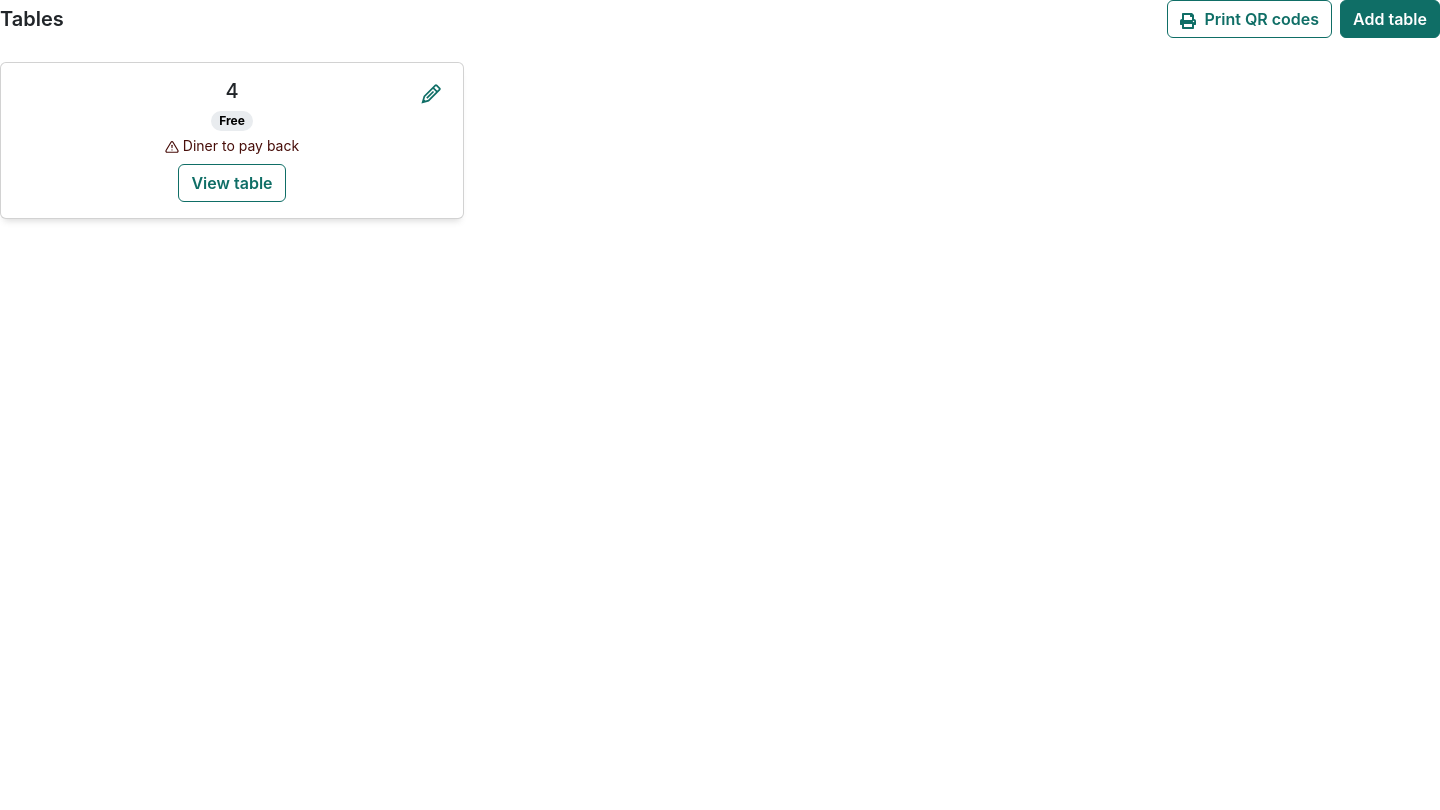
Test case: what's owed, on the table sheet › says what to do about a refund Stripe refused, with its button
Click the button with aria-label "View table 4" at coordinates (232, 183), box [178,164,286,202]
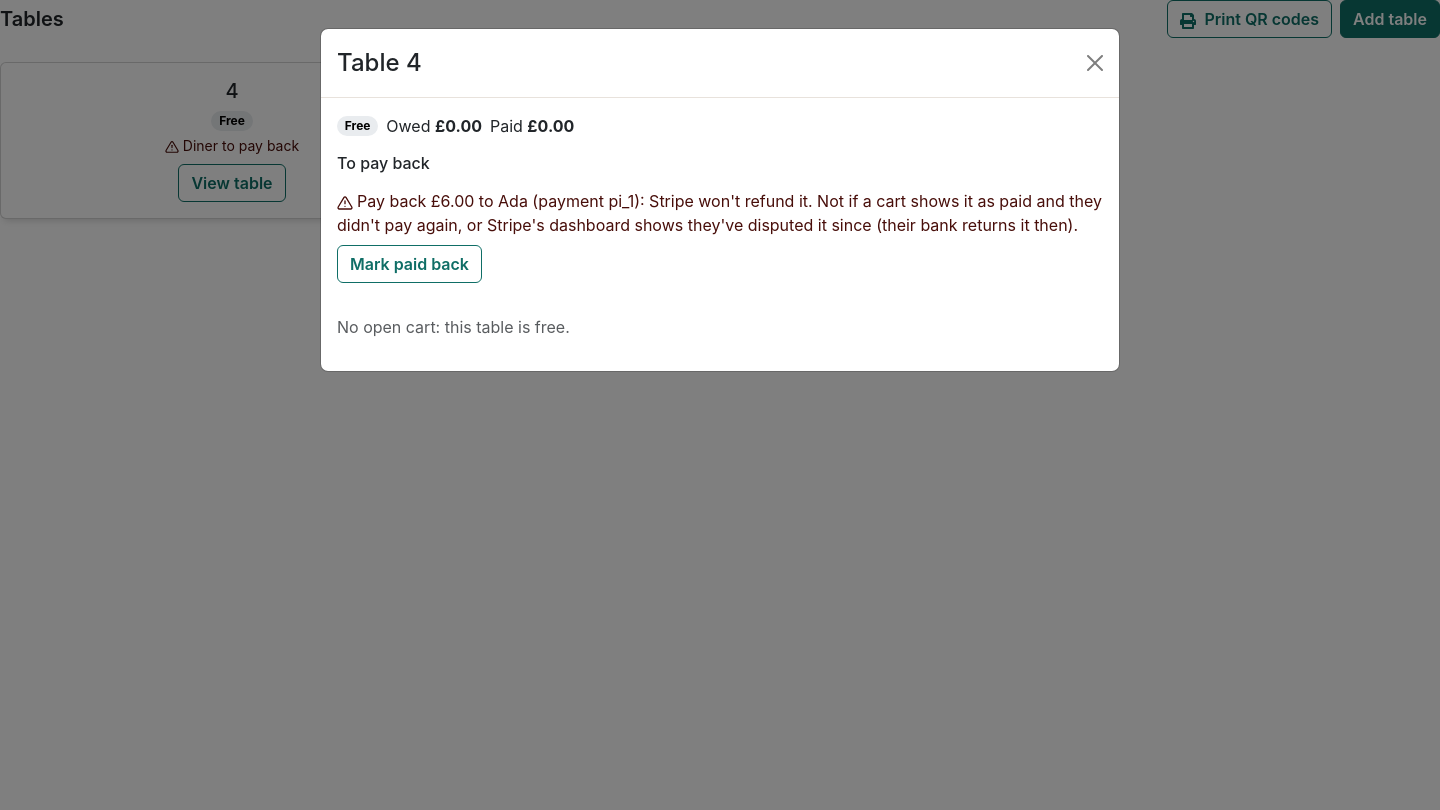
Expected: the text "No open cart: this table is free." is shown, [337,317,570,337]
Expected: the heading "To pay back" is shown, [337,153,430,173]
Expected: the text "Pay back £6.00 to Ada (payment pi_1): Stripe won't refund it. Not if a cart shows it as paid and they didn't pay again, " is shown, [337,191,1102,235]
